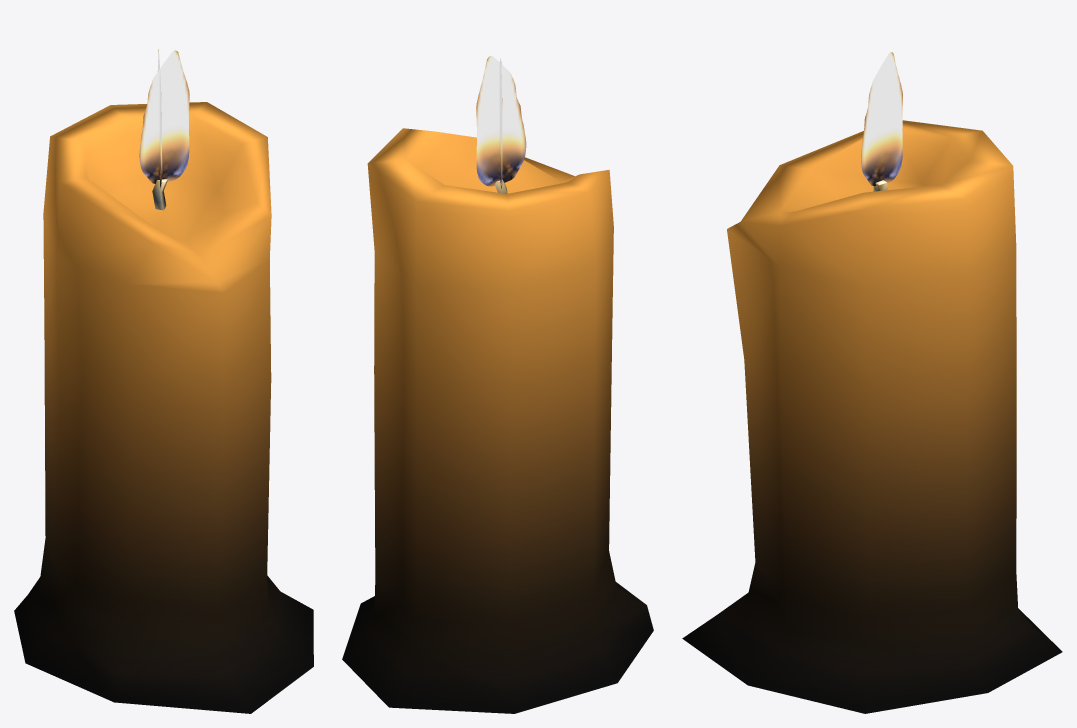
File: CandleShapeB.028.glb
3 renders of one model, left to right at view 1: azimuth 30°, elevation 25°; view 2: azimuth 150°, elevation 25°; view 3: azimuth 270°, elevation 25°, orthographic.
Visible parts, largest first — view 1: CandleShapeB.028; view 2: CandleShapeB.028; view 3: CandleShapeB.028.
Boxes of the visible parts, left/top/right/bottom form: CandleShapeB.028: left=14, top=49, right=313, bottom=713; CandleShapeB.028: left=342, top=56, right=653, bottom=713; CandleShapeB.028: left=682, top=52, right=1062, bottom=713.
Size of the model in its own units: 0.0966 by 0.2031 by 0.117.
Materials: 2 (2 with a texture image).
